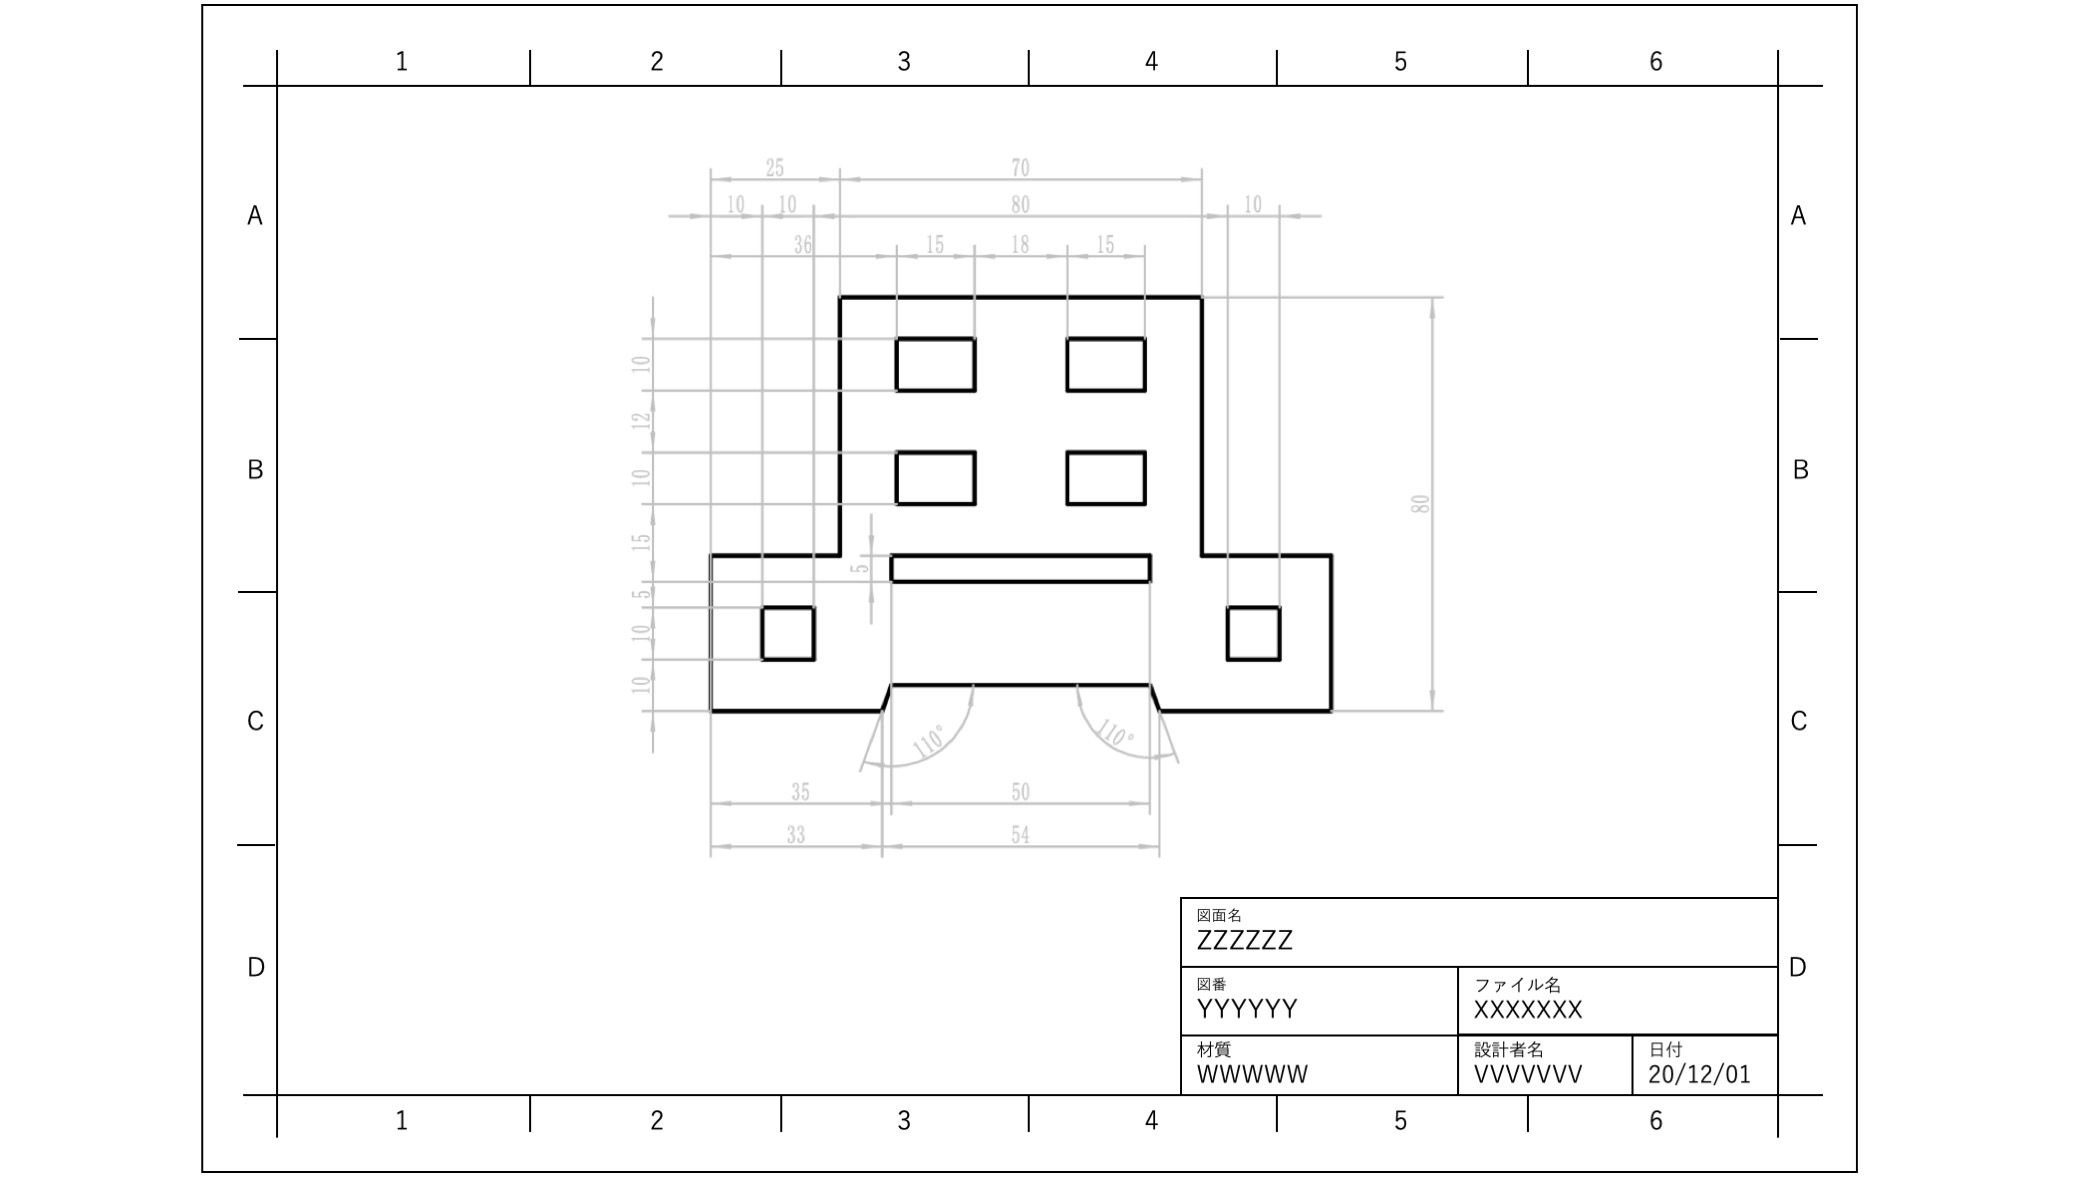rectangle: (884, 534, 1168, 590), (884, 327, 991, 407), (1053, 322, 1160, 401), (878, 443, 992, 512), (1054, 440, 1151, 509), (750, 591, 834, 669), (1214, 596, 1297, 672)
